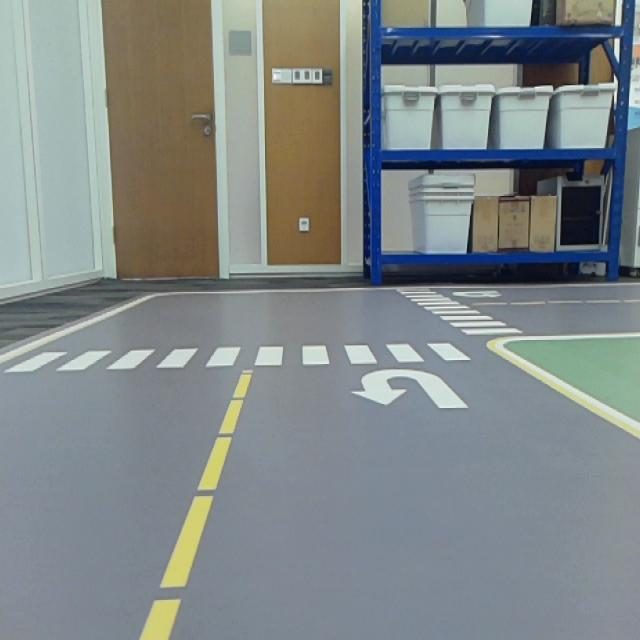left_lane: (141, 362, 256, 640)
right_lane: (487, 345, 640, 440), (1, 294, 152, 365)
